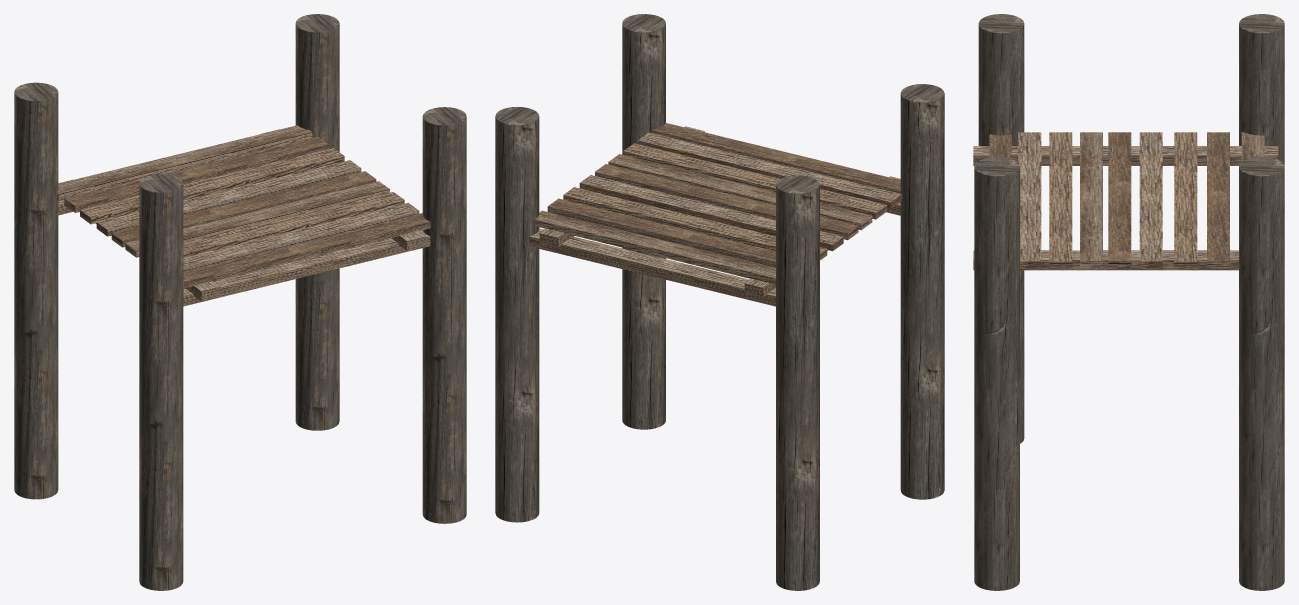
Rendered from plat_4Supports.fbx.
3 renders of one model, left to right at view 1: azimuth 30°, elevation 25°; view 2: azimuth 150°, elevation 25°; view 3: azimuth 270°, elevation 25°, orthographic. The views are drawn at different scales.
Visible parts, largest first — view 1: postes.003; view 2: postes.003; view 3: postes.003.
Boxes of the visible parts, left/top/right/bottom form: postes.003: left=14, top=14, right=466, bottom=590; postes.003: left=495, top=14, right=944, bottom=590; postes.003: left=973, top=14, right=1284, bottom=590.
Bounding box in the file's own units: 504 × 600 × 409.
Materials: 3 (3 with a texture image).
